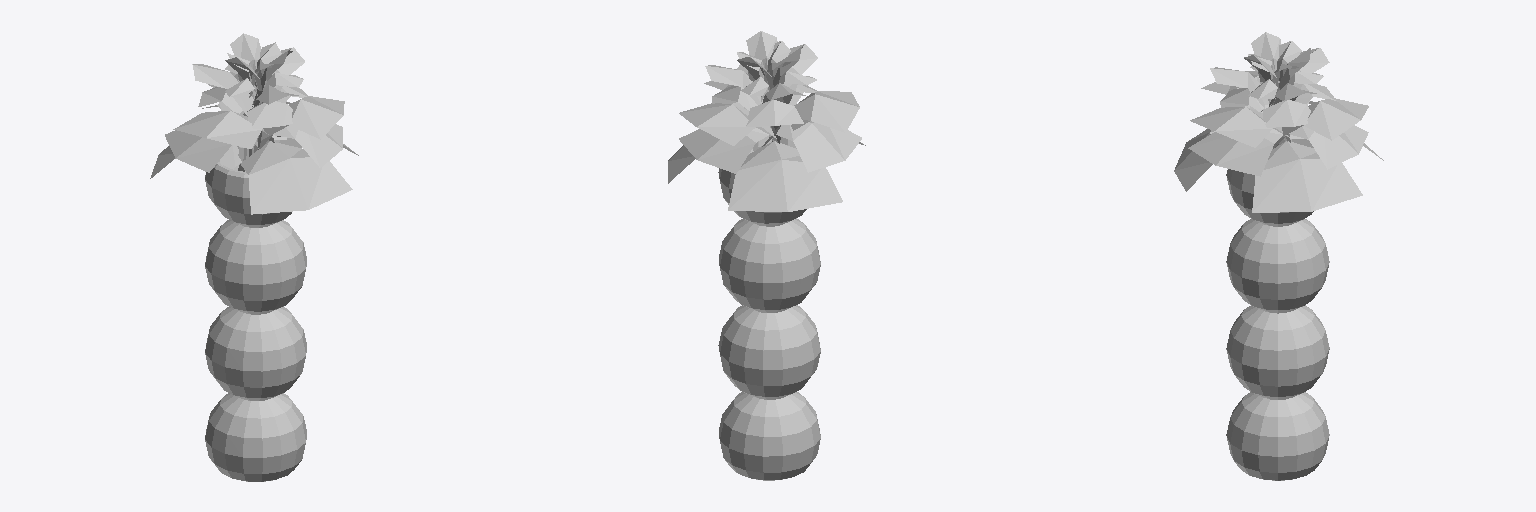
The model's file is sphere_shrub.obj.
3 renders of one model, left to right at view 1: azimuth 30°, elevation 25°; view 2: azimuth 150°, elevation 25°; view 3: azimuth 270°, elevation 25°, orthographic.
Visible parts, largest first — view 1: Sphere.002; view 2: Sphere.002; view 3: Sphere.002.
Part boxes in pixels (x1,y1,x2,y2): Sphere.002: (150,33,358,481); Sphere.002: (668,31,865,480); Sphere.002: (1174,32,1383,480).
Bounding box in the file's own units: 0.6081 × 1.35 × 0.6152.